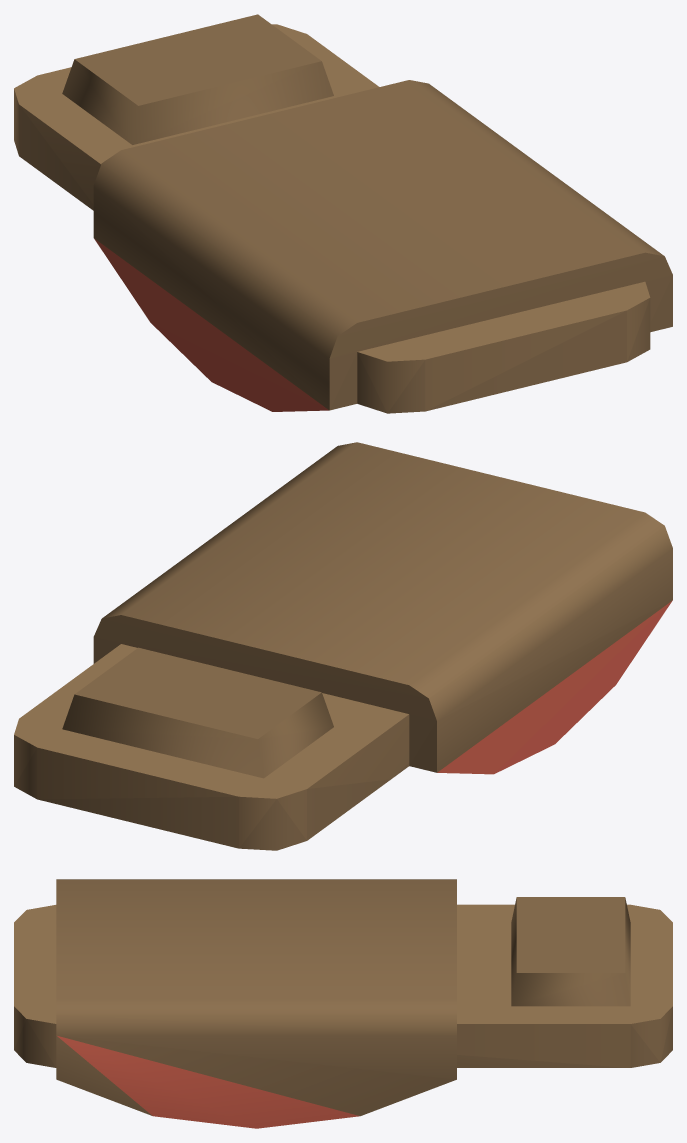
Rendered from kenney_survival_bedroll.glb.
The picture shows the model from 3 angles, top to bottom: view 1: azimuth 30°, elevation 25°; view 2: azimuth 150°, elevation 25°; view 3: azimuth 270°, elevation 25°; orthographic projection. The views are drawn at different scales.
Visible parts, largest first — view 1: cloth; view 2: cloth; view 3: cloth.
Boxes of the visible parts, box(x1,y1,x2,y2) form: cloth: box(14, 14, 672, 413); cloth: box(14, 442, 672, 850); cloth: box(14, 879, 672, 1128).
Bounding box in the file's own units: 0.3104 × 0.1248 × 0.6076.
